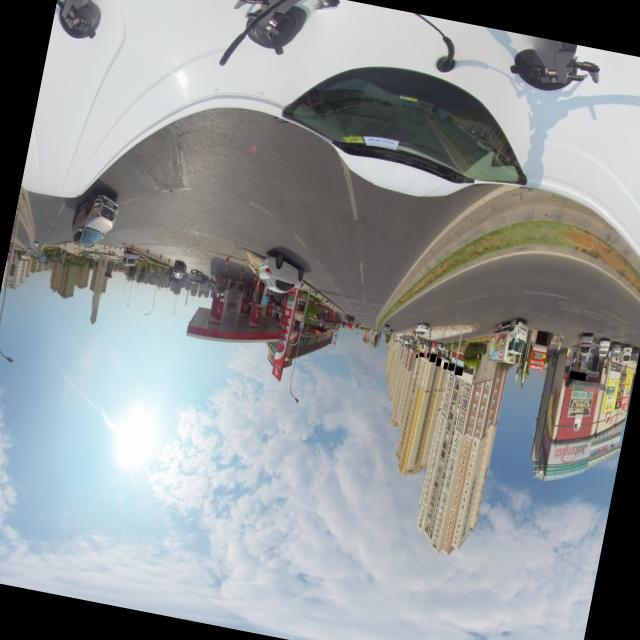SignStore: (568, 370, 586, 379), (454, 365, 462, 375), (429, 352, 435, 362), (447, 362, 454, 370), (435, 357, 441, 366), (442, 361, 448, 369), (419, 351, 423, 356), (426, 352, 429, 357), (415, 353, 417, 357)
